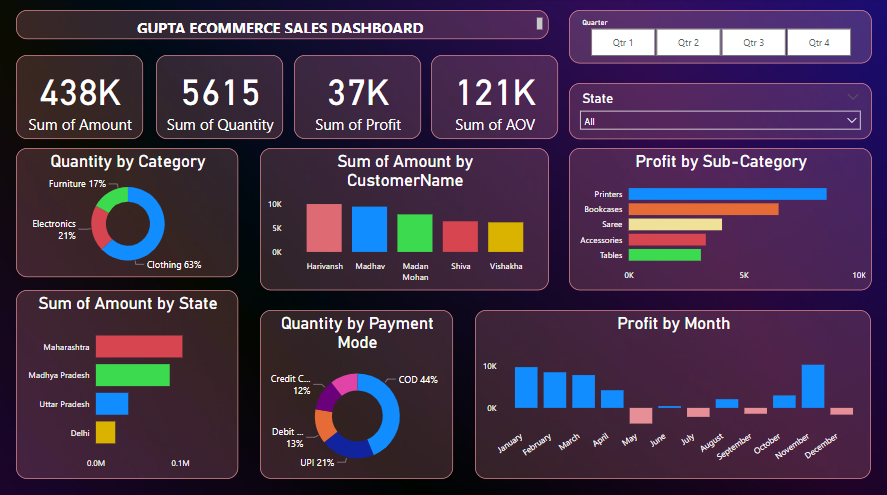

What the dashboard file says about the page in this screenshot:
{"tool":"powerbi","page":{"name":"Page 1","canvas":[1280,720],"ordinal":0},"visuals":[{"type":"textbox","box":[23.5,16.8,766.7,41.9],"z":0},{"type":"columnChart","title":"Profit by Month","fields":{"Category":["Orders.Order Date.Variation.Date Hierarchy.Month"],"Y":["Details.Profit"]},"box":[684.5,449.6,570.4,243.3],"z":1000},{"type":"barChart","title":"Profit by Sub-Category","fields":{"Y":["Details.Profit"],"Category":["Details.Sub-Category"]},"box":[818.7,216.4,436.2,204.7],"z":2000},{"type":"donutChart","title":" Quantity by Payment Mode","fields":{"Category":["Details.PaymentMode"],"Y":["Details.Quantity"]},"box":[374.1,449.6,278.5,243.3],"z":3000},{"type":"donutChart","title":" Quantity by Category","fields":{"Category":["Details.Category"],"Y":["Details.Quantity"]},"box":[23.5,216.4,320.4,186.2],"z":4000},{"type":"card","fields":{"Values":["Details.Amount"]},"box":[23.5,82.2,182.9,120.8],"z":5000},{"type":"card","fields":{"Values":["Details.Quantity"]},"box":[224.8,82.2,182.9,120.8],"z":6000},{"type":"card","fields":{"Values":["Details.Profit"]},"box":[422.8,82.2,182.9,120.8],"z":7000},{"type":"card","fields":{"Values":["Details.Average Order Value"]},"box":[620.7,82.2,182.9,120.8],"z":8000},{"type":"barChart","fields":{"Category":["Orders.State"],"Y":["Details.Amount"]},"box":[23.5,421.1,320.4,271.8],"z":9000},{"type":"columnChart","fields":{"Category":["Orders.CustomerName"],"Y":["Details.Amount"]},"box":[374.1,216.4,416,204.7],"z":10000},{"type":"slicer","fields":{"Values":["Orders.Order Date.Variation.Date Hierarchy.Quarter"]},"box":[818.7,16.8,436.2,77.2],"z":11000},{"type":"slicer","fields":{"Values":["Orders.State"]},"box":[818.7,122.5,436.2,80.5],"z":12000}]}

Visuals, with their boxes in screenshot pixels (x1, y1, x2, y2), scaled from the page's 1280x720 canvas onto the 887x495 screenshot:
textbox: l=16, t=12, r=548, b=40
"Profit by Month" columnChart: l=474, t=309, r=870, b=476
"Profit by Sub-Category" barChart: l=567, t=149, r=870, b=290
" Quantity by Payment Mode" donutChart: l=259, t=309, r=452, b=476
" Quantity by Category" donutChart: l=16, t=149, r=238, b=277
card - Details.Amount: l=16, t=57, r=143, b=140
card - Details.Quantity: l=156, t=57, r=283, b=140
card - Details.Profit: l=293, t=57, r=420, b=140
card - Details.Average Order Value: l=430, t=57, r=557, b=140
barChart - Orders.State x Details.Amount: l=16, t=290, r=238, b=476
columnChart - Orders.CustomerName x Details.Amount: l=259, t=149, r=548, b=290
slicer - Orders.Order Date.Variation.Date Hierarchy.Quarter: l=567, t=12, r=870, b=65
slicer - Orders.State: l=567, t=84, r=870, b=140
